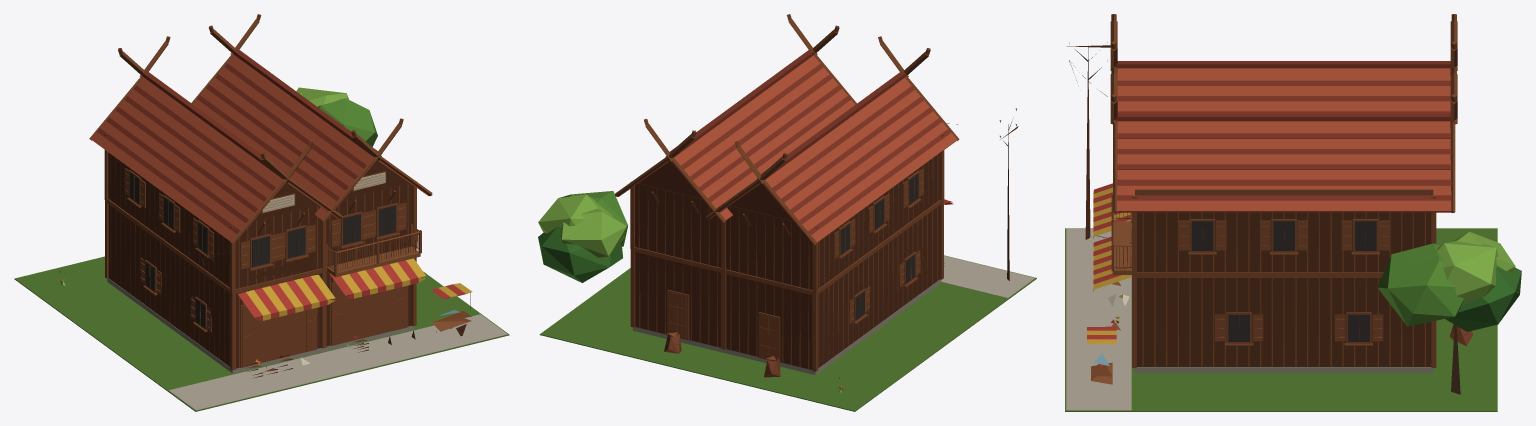
Rendered from shop_2.glb.
3 views of the same model, side by side, from view 1: azimuth 30°, elevation 25°; view 2: azimuth 150°, elevation 25°; view 3: azimuth 270°, elevation 25° (orthographic). The views are drawn at different scales.
Visible parts, largest first — view 1: body, windows; view 2: body, windows; view 3: body, windows.
Boxes of the visible parts, <box> form: body: <box>14,14,509,411</box>; windows: <box>130,172,396,327</box>; body: <box>538,14,1036,411</box>; windows: <box>840,173,918,319</box>; body: <box>1065,14,1521,411</box>; windows: <box>1119,221,1376,341</box>.
Bounding box in the file's own units: 16.63 × 10.98 × 16.79.
